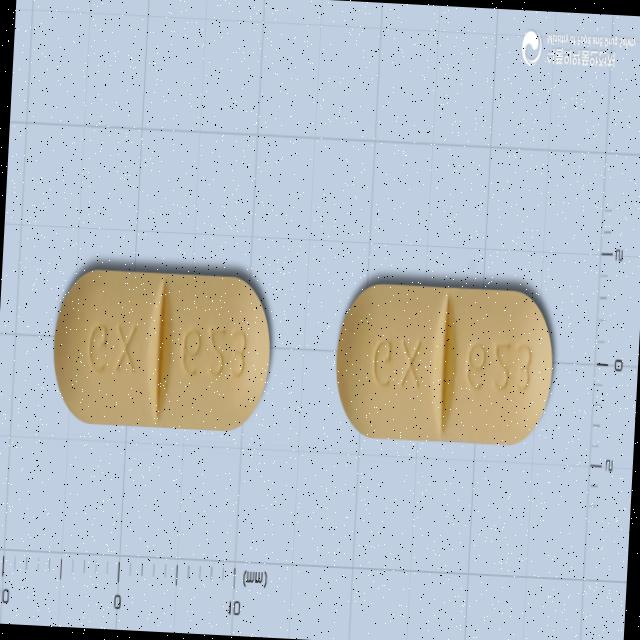Ziagen Tab: (49, 265, 274, 435), (332, 280, 558, 447)
